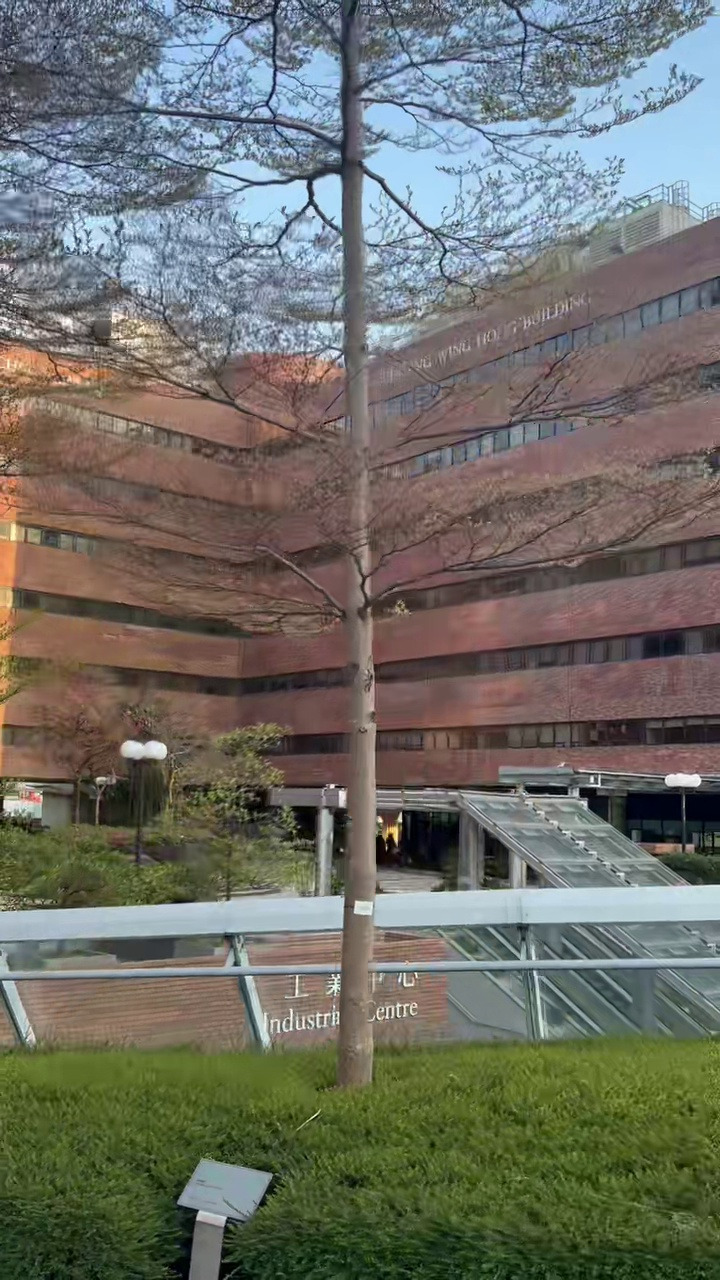Terminalia mantaly: (0, 0, 710, 1085)
